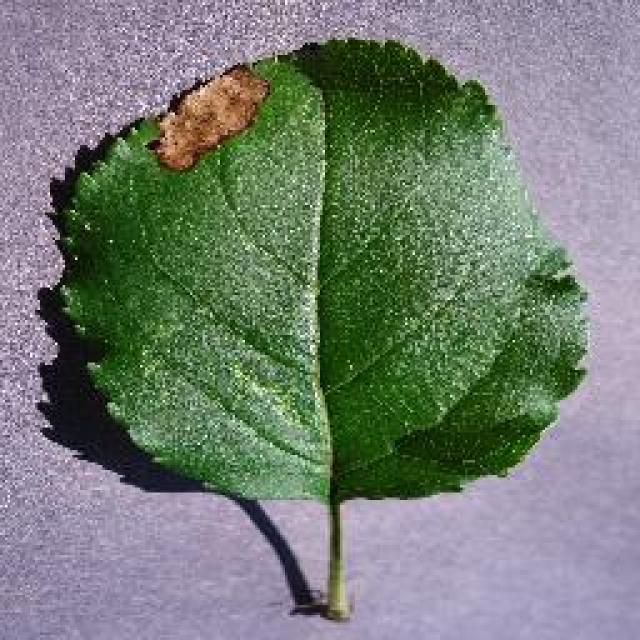apple black rot: (38, 32, 590, 618)
